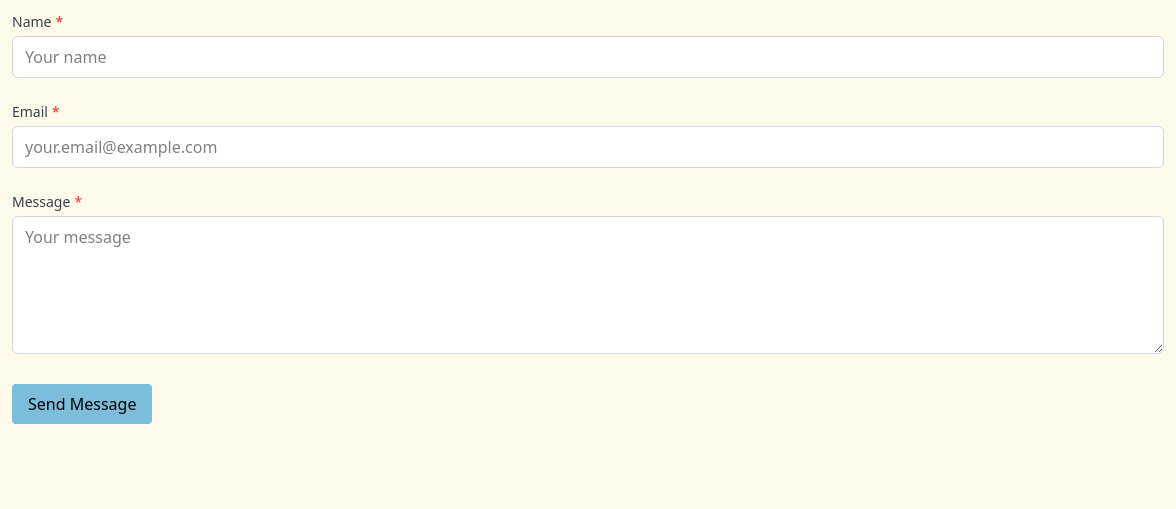
Test: ContactForm component › clears error when field is edited
Note: Submit empty form to trigger errors
Submit the form
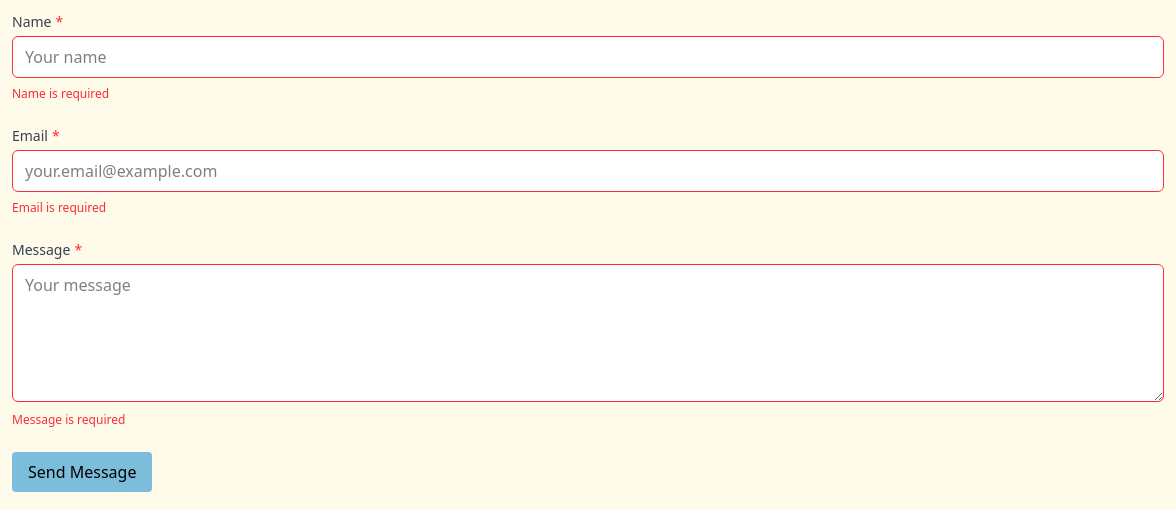
Note: Edit the message field (which we can directly test)
Type "Test message" into the text box labelled "Message*".
click(588, 333); type("Test message")  # box [12,264,1164,402]
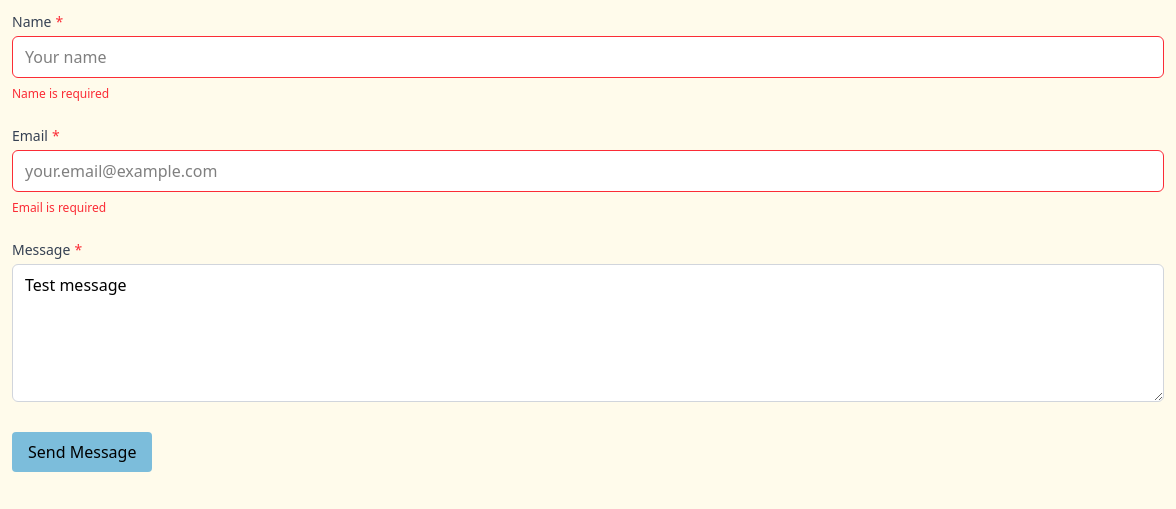
Result: the text "Message is required" is gone
